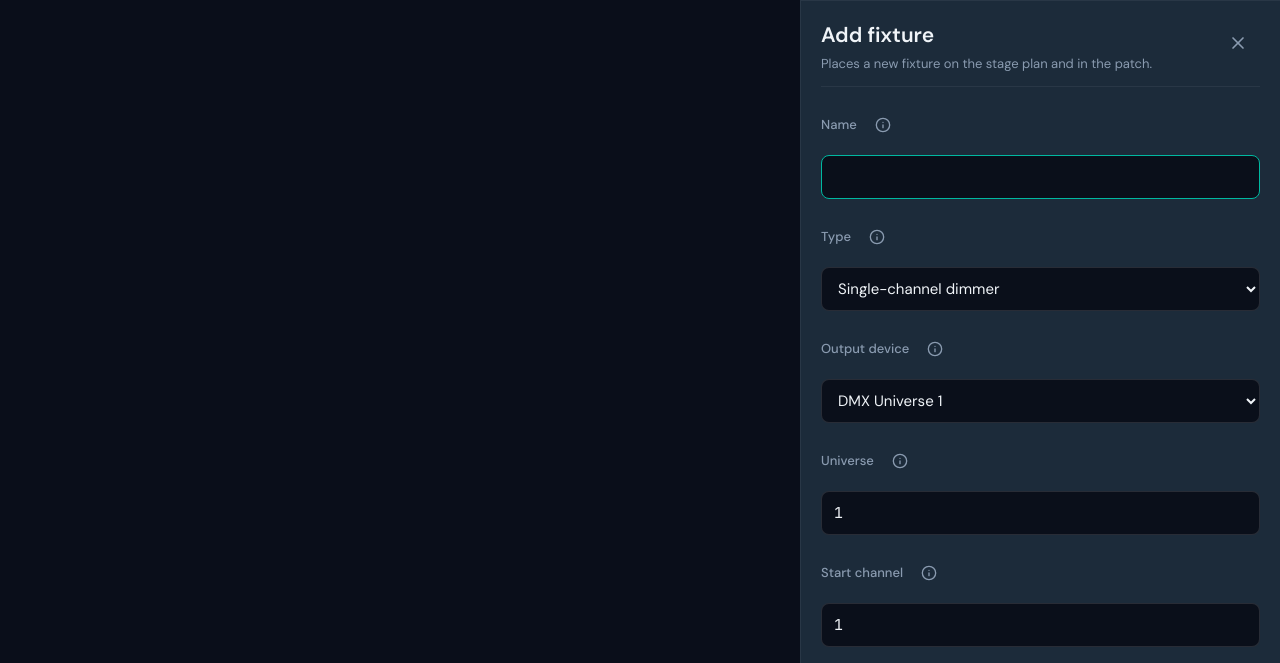
FixtureSheet KNX vs DMX fields › shows KNX address pickers and hides DMX fields for a KNX dimmer
Select "KNX dimmer" in the dropdown labelled "Type". click: (1040, 289)
box: [821,267,1260,311]
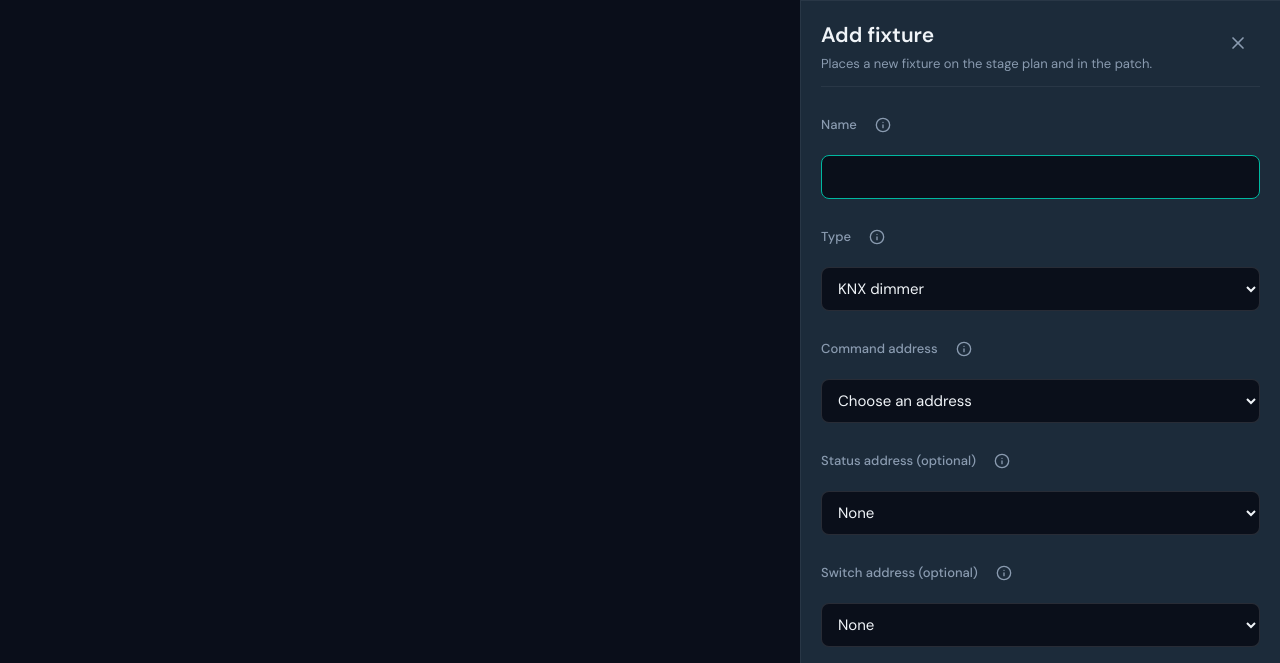
Expected: the dropdown labelled "Command address" is shown, [821,379,1260,423]
Expected: the label labelled "Start channel" is gone
